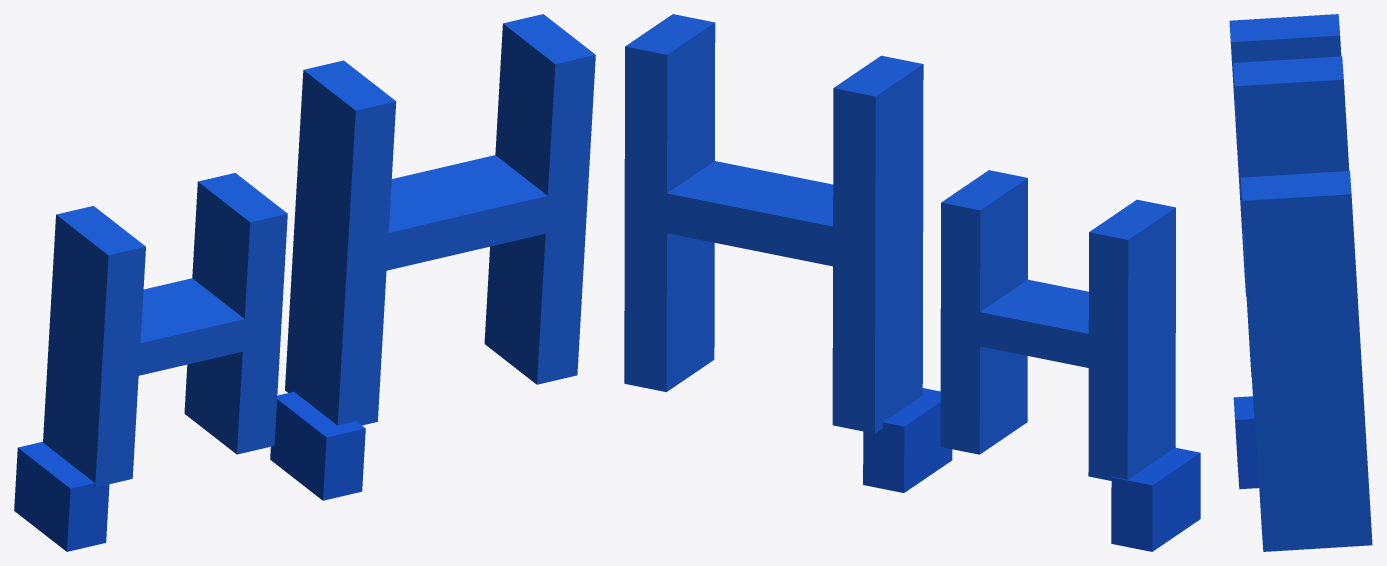
3 views of the same model, side by side, from view 1: azimuth 30°, elevation 25°; view 2: azimuth 150°, elevation 25°; view 3: azimuth 270°, elevation 25° (orthographic). The views are drawn at different scales.
Visible parts, largest first — view 1: Mesh_0.003, Куб.001, Куб; view 2: Mesh_0.003, Куб.001, Куб; view 3: Mesh_0.003, Куб.
Boxes of the visible parts, x1=… form: Mesh_0.003: x1=43, y1=14, x2=595, y2=487; Куб.001: x1=14, y1=441, x2=109, y2=551; Куб: x1=270, y1=391, x2=365, y2=500; Mesh_0.003: x1=624, y1=14, x2=1175, y2=480; Куб.001: x1=1111, y1=447, x2=1200, y2=551; Куб: x1=863, y1=388, x2=952, y2=492; Mesh_0.003: x1=1229, y1=14, x2=1372, y2=551; Куб: x1=1233, y1=396, x2=1259, y2=489.
Size of the model in its own units: 12.13 by 8.56 by 2.6.
